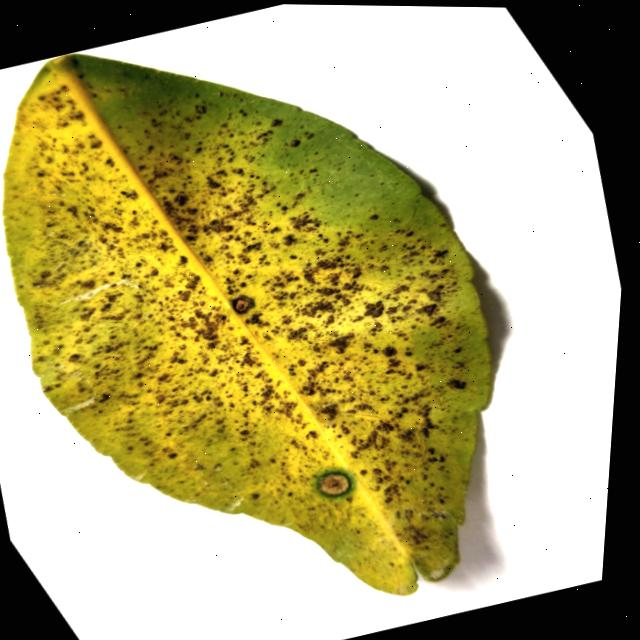melanose: (3, 54, 490, 595)
